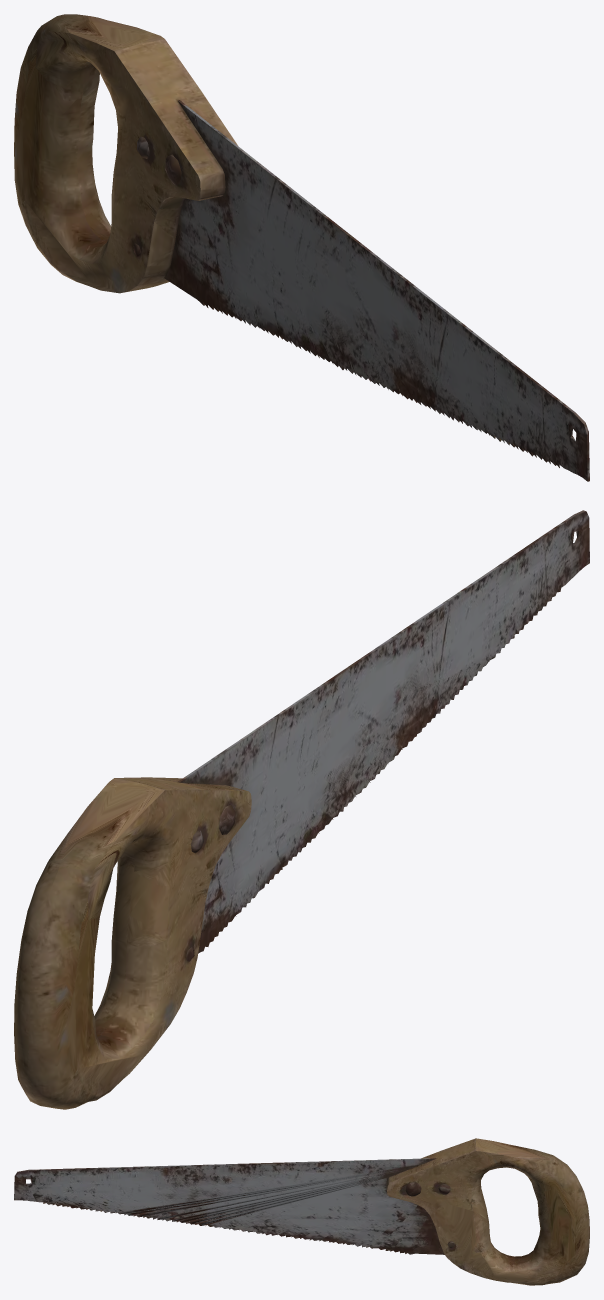
Rendered from handsaw-wood.glb.
3 renders of one model, top to bottom at view 1: azimuth 30°, elevation 25°; view 2: azimuth 150°, elevation 25°; view 3: azimuth 270°, elevation 25°, orthographic. The views are drawn at different scales.
Parts seen in each view (by area): view 1: handsaw_wood; view 2: handsaw_wood; view 3: handsaw_wood.
Part boxes in pixels (<box>): handsaw_wood: <box>14,14,589,481</box>; handsaw_wood: <box>14,510,589,1109</box>; handsaw_wood: <box>14,1138,589,1285</box>.
Size of the model in its own units: 0.0404 by 0.1663 by 0.633.
1 material, 1 textured.
